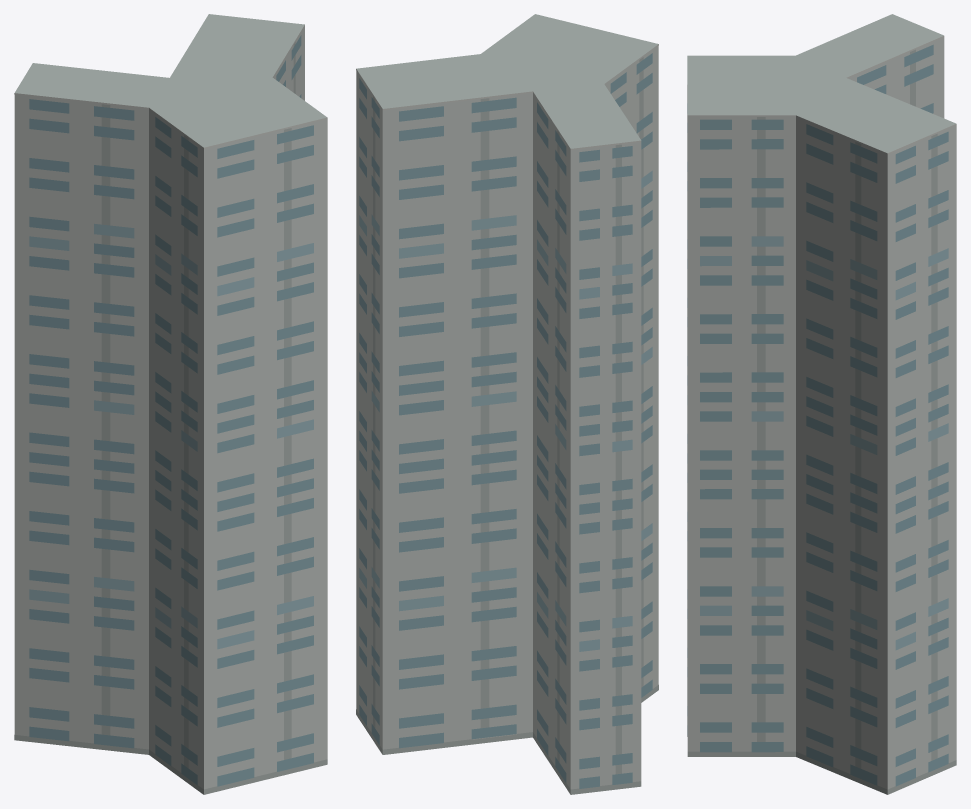
File: residential-a33e6762-09b4-4443-b360-81348c68a065.glb
3 views of the same model, side by side, from view 1: azimuth 30°, elevation 25°; view 2: azimuth 150°, elevation 25°; view 3: azimuth 270°, elevation 25° (orthographic).
Visible parts, largest first — view 1: residential-a33e6762-09b4-4443-b360-81348c68a065.tmp; view 2: residential-a33e6762-09b4-4443-b360-81348c68a065.tmp; view 3: residential-a33e6762-09b4-4443-b360-81348c68a065.tmp.
Part boxes in pixels (box(x1,y1,x2,y2)): residential-a33e6762-09b4-4443-b360-81348c68a065.tmp: box(14, 14, 327, 794); residential-a33e6762-09b4-4443-b360-81348c68a065.tmp: box(356, 14, 658, 794); residential-a33e6762-09b4-4443-b360-81348c68a065.tmp: box(687, 14, 956, 794).
Size of the model in its own units: 44.73 by 96 by 36.52.
